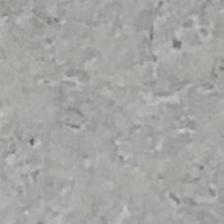Non_Crack: (11, 8, 191, 224)
